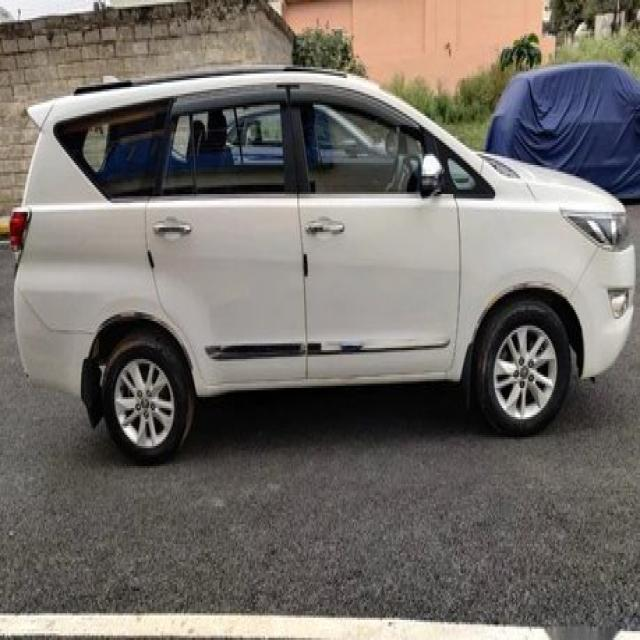light_vehicle: (10, 65, 637, 466)
